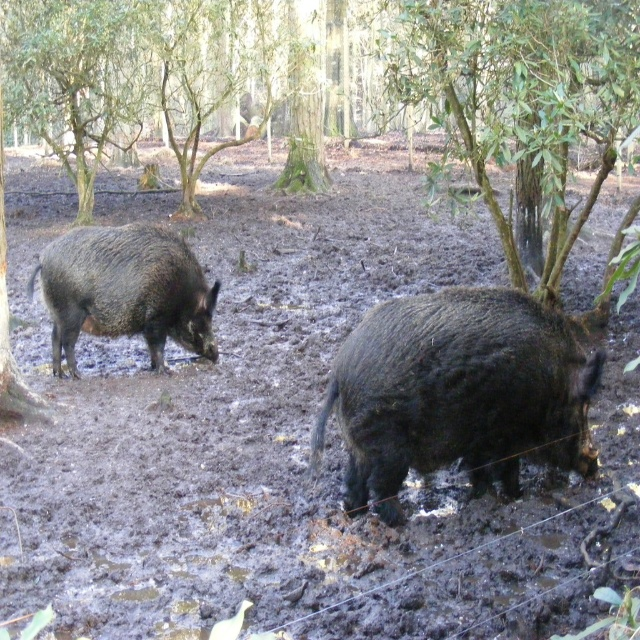Pig: (308, 284, 607, 528), (26, 221, 222, 381)
